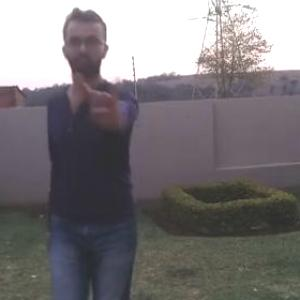takeoff-hand: (78, 64, 130, 125)
